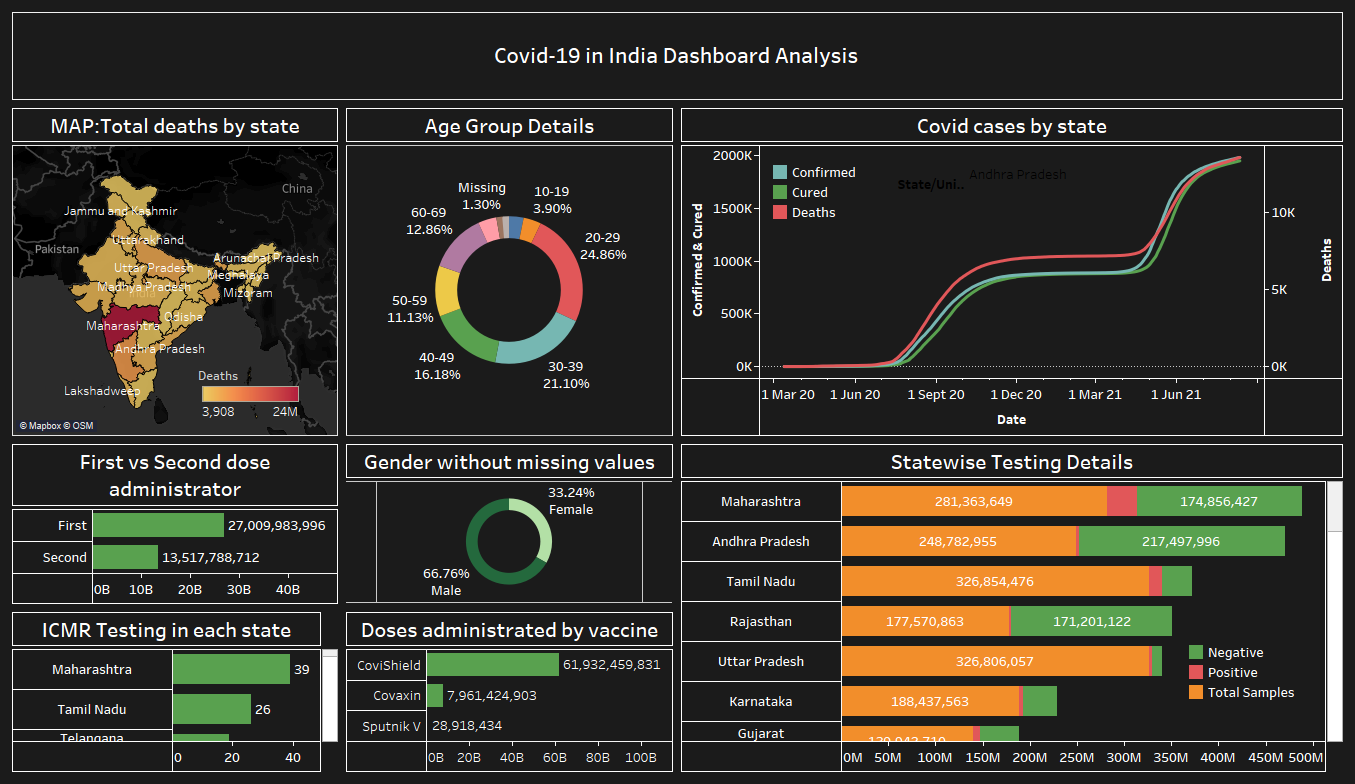

The page's visual inventory and layout, read from the dashboard file:
{"tool":"tableau","page":{"name":"Dashboard 1","canvas":[1355,784],"ordinal":0},"visuals":[{"type":"worksheet","title":"Title","mark":"Automatic","box":[8,8,1339,96]},{"type":"worksheet","title":"maps:total deaths by state","mark":"Automatic","box":[8,104,334.4,335.7]},{"type":"worksheet","title":"Age Group Details","mark":"Pie","rows":["Calculation_29554927231639553","Calculation_29554927231639553"],"box":[342.4,104,334.9,335.7]},{"type":"worksheet","title":"Covid cases by state","mark":"Automatic","rows":["Deaths"],"cols":["Date"],"box":[677.3,104,669.7,335.7]},{"type":"legend","title":"Covid cases by state","param":"[federated.1qavml81xbqxxi15ts36205cmxmu].[:Measure Names]","box":[769.5,162.4,106.2,112.8]},{"type":"filter","title":"Covid cases by state","param":"[federated.1qavml81xbqxxi15ts36205cmxmu].[none:State/UnionTerritory:nk]","box":[895,165,256,37]},{"type":"legend","title":"maps:total deaths by state","param":"[federated.1qavml81xbqxxi15ts36205cmxmu].[sum:Deaths:qk]","box":[198,363.5,105.4,54.2]},{"type":"worksheet","title":"First vs Second dose administrator","mark":"Automatic","box":[8,439.7,334.4,168]},{"type":"worksheet","title":"Gender without missing values","mark":"Pie","rows":["Calculation_29554927235829763","Calculation_29554927235829763"],"box":[342.4,439.7,334.9,168]},{"type":"worksheet","title":"Sheet 9","mark":"Automatic","rows":["State"],"box":[677.3,439.7,669.7,336.3]},{"type":"worksheet","title":"ICMR Testing in each state","mark":"Automatic","rows":["state"],"cols":["lab"],"box":[8,607.8,334.4,168.2]},{"type":"worksheet","title":"Doses administrated by vaccine","mark":"Automatic","box":[342.4,607.8,334.9,168.2]},{"type":"legend","title":"Sheet 9","param":"[federated.0r4qgh51qexey11gayn8y1ts0g8c].[:Measure Names]","box":[1186.1,641.7,137.5,103.4]}]}

Visuals, with their boxes in screenshot pixels (x1, y1, x2, y2), scaled from the page's 1355x784 canvas onto the 1355x784 screenshot:
"Title" worksheet: 8, 8, 1347, 104
"maps:total deaths by state" worksheet: 8, 104, 342, 440
"Age Group Details" worksheet (Pie marks): 342, 104, 677, 440
"Covid cases by state" worksheet: 677, 104, 1347, 440
"Covid cases by state" legend: 770, 162, 876, 275
"Covid cases by state" filter: 895, 165, 1151, 202
"maps:total deaths by state" legend: 198, 364, 303, 418
"First vs Second dose administrator" worksheet: 8, 440, 342, 608
"Gender without missing values" worksheet (Pie marks): 342, 440, 677, 608
"Sheet 9" worksheet: 677, 440, 1347, 776
"ICMR Testing in each state" worksheet: 8, 608, 342, 776
"Doses administrated by vaccine" worksheet: 342, 608, 677, 776
"Sheet 9" legend: 1186, 642, 1324, 745
